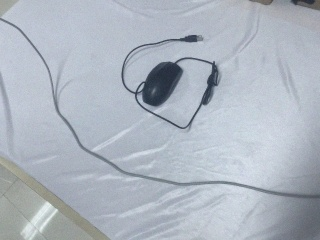mouse: (141, 60, 184, 107)
